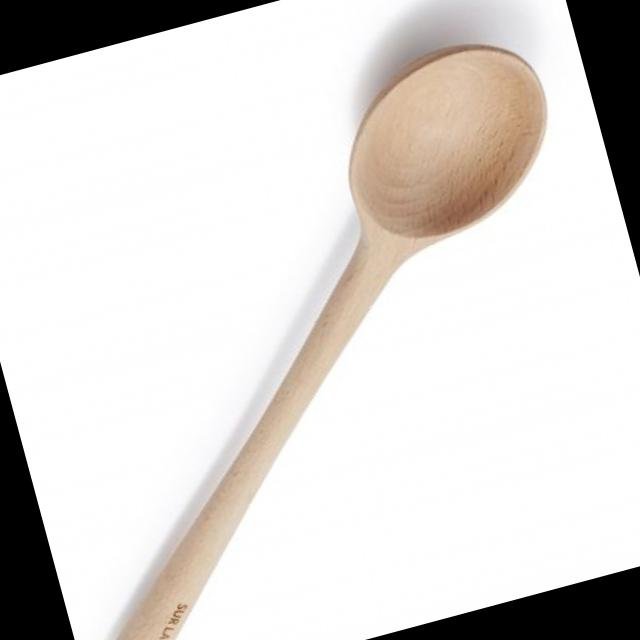spoon: (0, 1, 640, 640)
